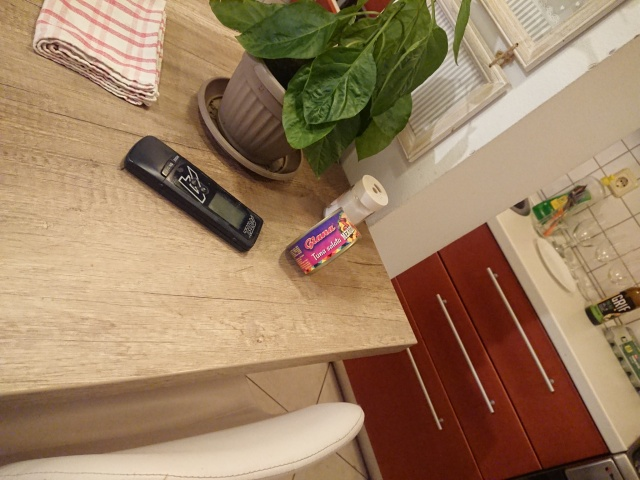Giana Tuna Salad Mexico 185g: (281, 204, 365, 277)
